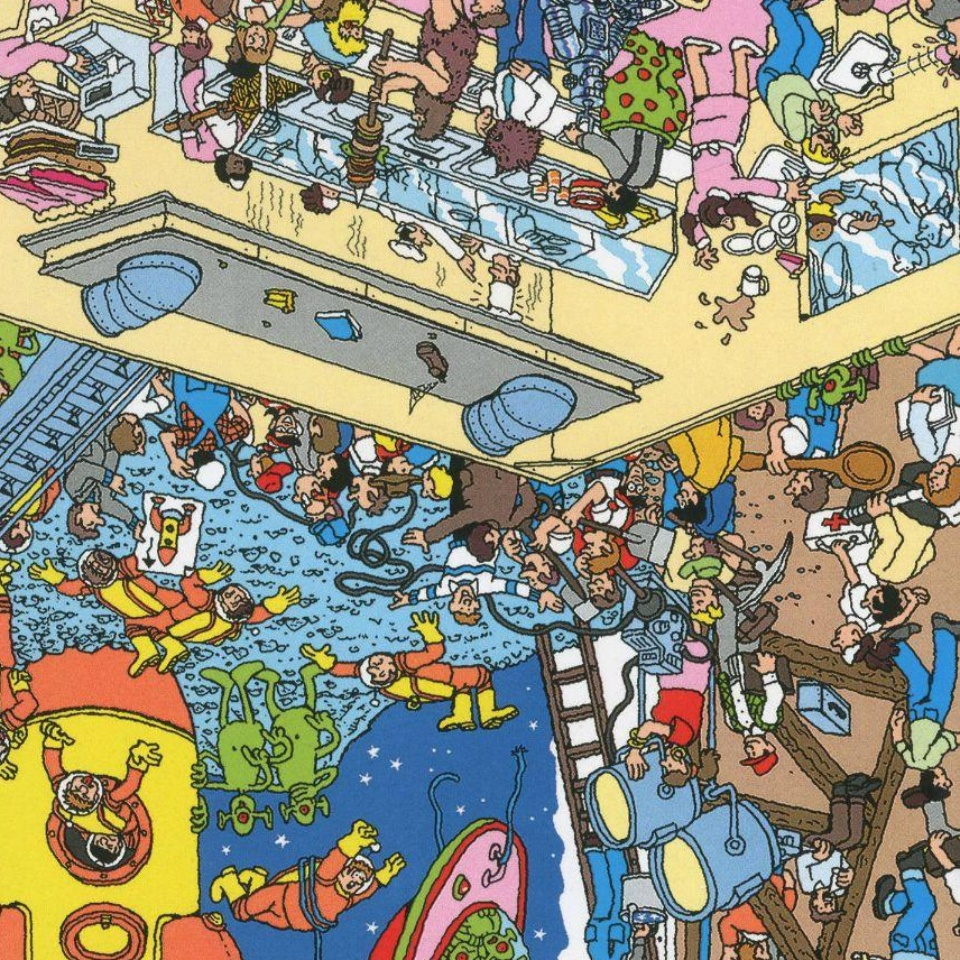waldo: (607, 449, 647, 513)
